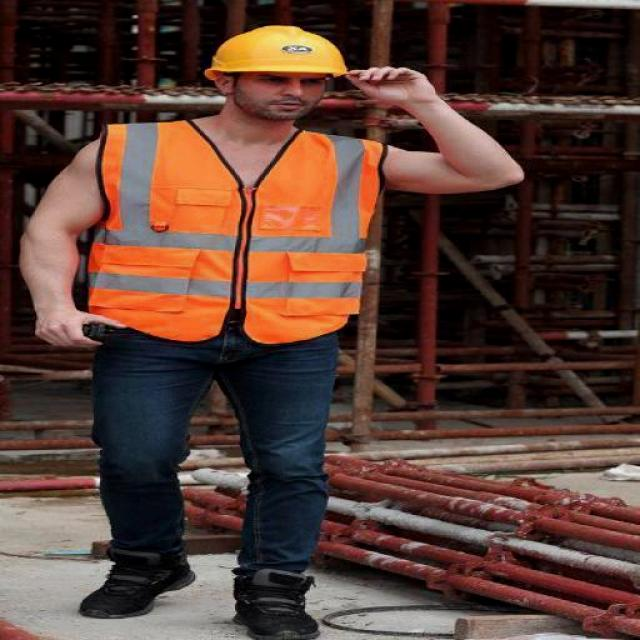face_nomask: (248, 68, 333, 118)
hand_noglove: (26, 301, 126, 353), (342, 59, 438, 109)
head_helmet: (196, 21, 358, 80)
person: (16, 15, 532, 640)
shoes: (76, 525, 202, 627), (222, 562, 328, 640)
vest: (76, 111, 384, 349)
